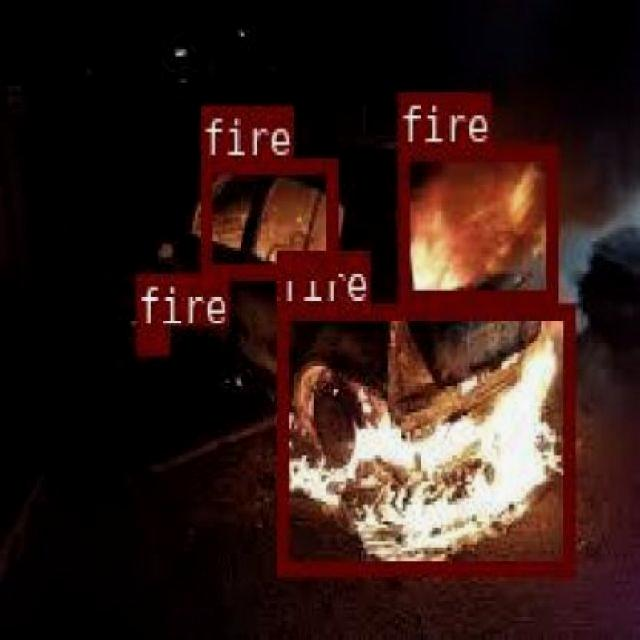fire: (276, 303, 572, 572), (398, 144, 556, 302), (200, 156, 334, 275), (135, 324, 168, 350)
